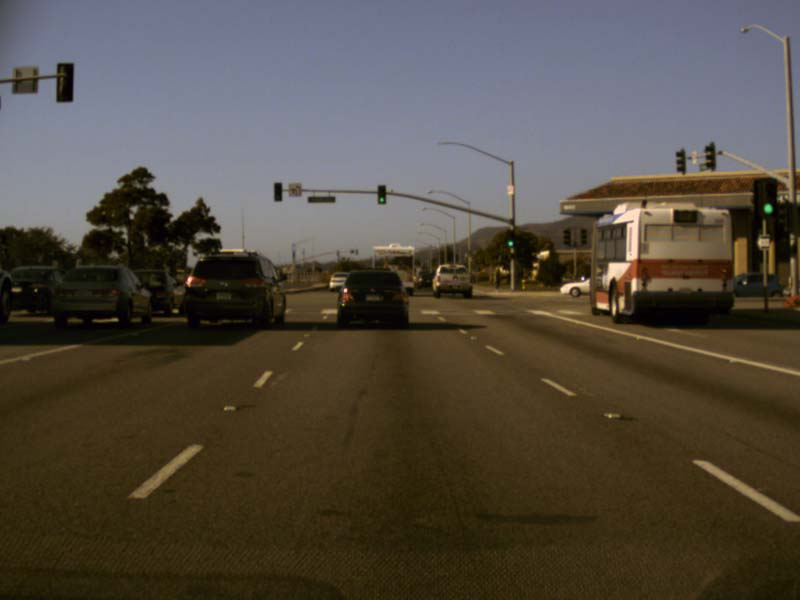Green: (760, 179, 776, 214), (505, 229, 514, 246), (377, 185, 385, 203)
